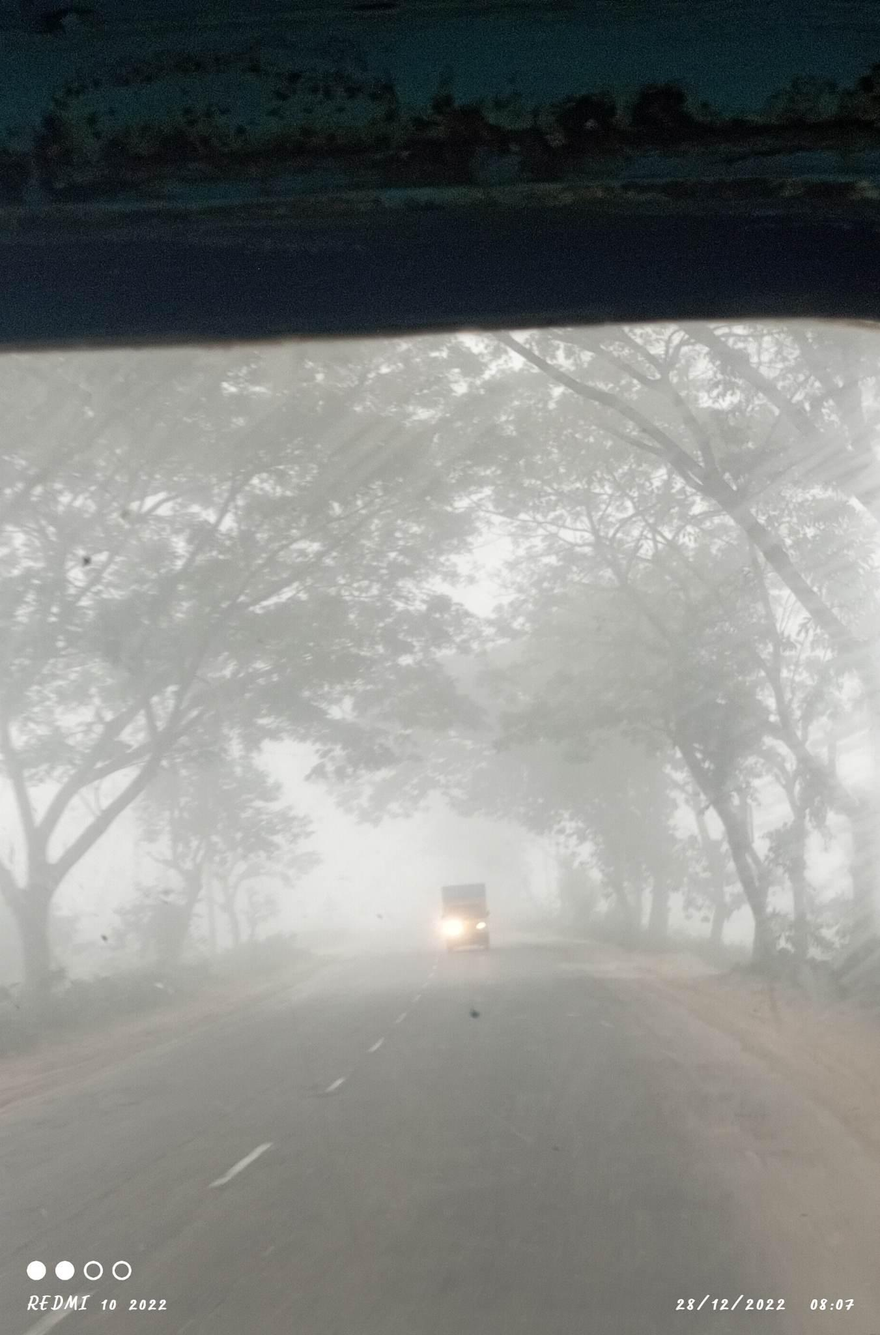Truck: (411, 857, 527, 973)
